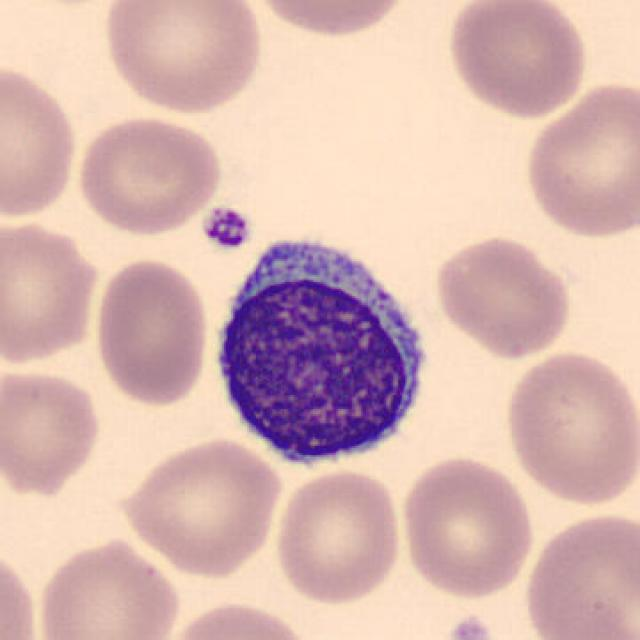Lymphocyte: (204, 224, 436, 479)
Platelets: (199, 203, 256, 254), (442, 613, 499, 640)
RBC: (114, 434, 284, 578), (500, 348, 638, 510), (396, 453, 537, 601), (99, 0, 266, 116), (519, 78, 638, 240), (73, 113, 226, 238), (270, 466, 406, 606), (90, 254, 212, 409), (430, 232, 576, 360), (441, 0, 592, 122), (32, 534, 183, 640), (519, 508, 638, 640), (0, 217, 103, 367), (0, 365, 105, 497), (0, 58, 80, 222), (245, 0, 418, 41), (163, 597, 316, 640), (0, 542, 43, 638)
